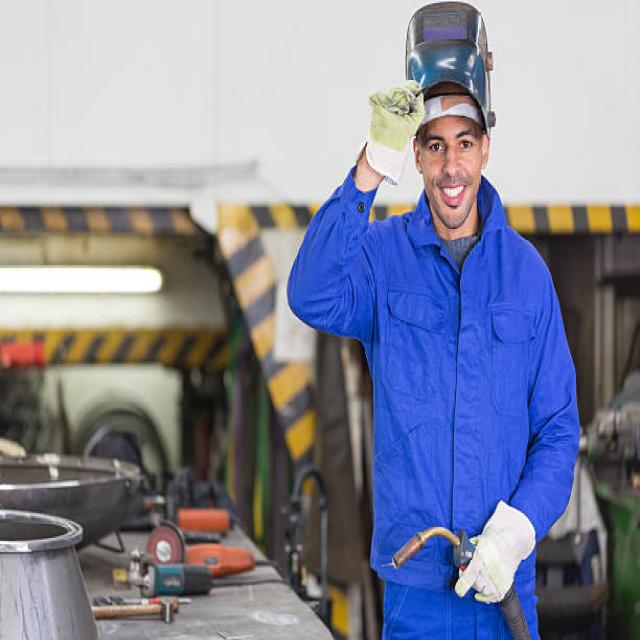gloves: (453, 498, 534, 606), (365, 77, 425, 185)
